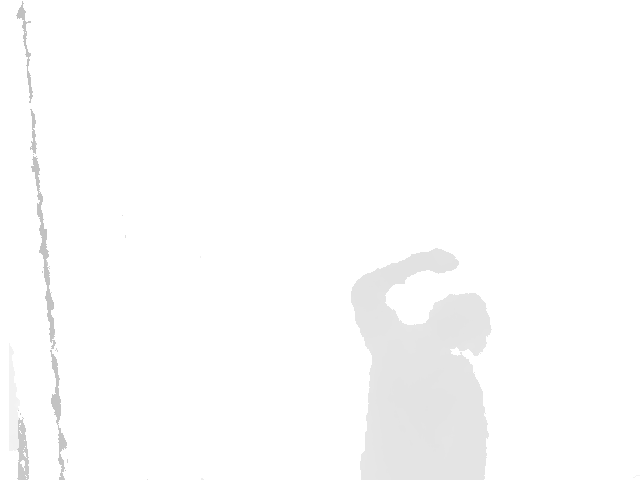hand: (419, 248, 460, 276)
head: (426, 291, 491, 357)
person: (349, 248, 491, 480)
